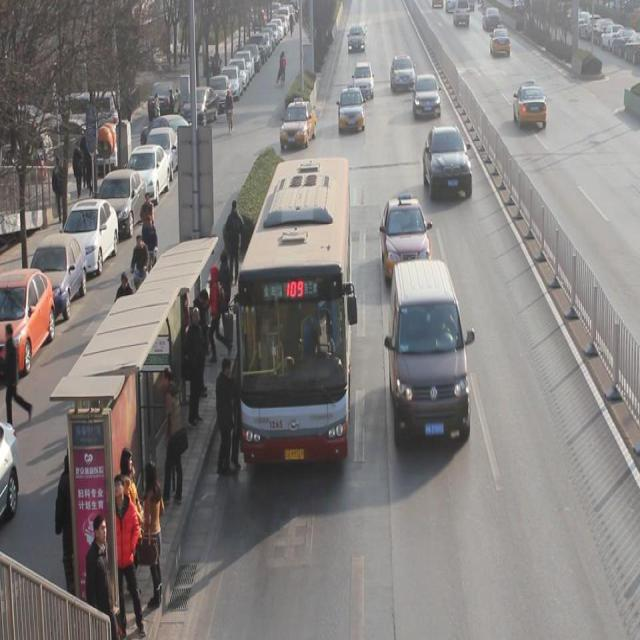car: (379, 196, 432, 275), (423, 124, 473, 200), (280, 98, 317, 151), (514, 78, 547, 129), (339, 85, 365, 133), (414, 74, 441, 118), (391, 54, 416, 93), (353, 61, 375, 99), (490, 22, 510, 57), (347, 25, 365, 53)
truck: (388, 260, 471, 444)
van: (234, 158, 349, 464)
